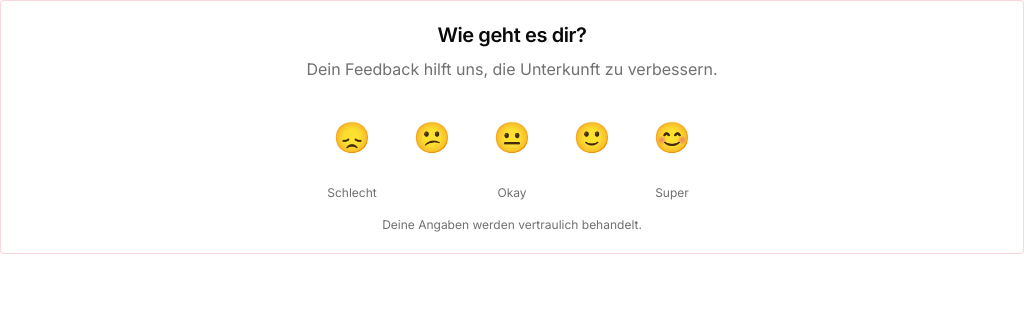
Test: SatisfactionRating › shows single submit button for rating 5
Click the button named "Sehr zufrieden" at (672, 137), box [640,105,704,169]
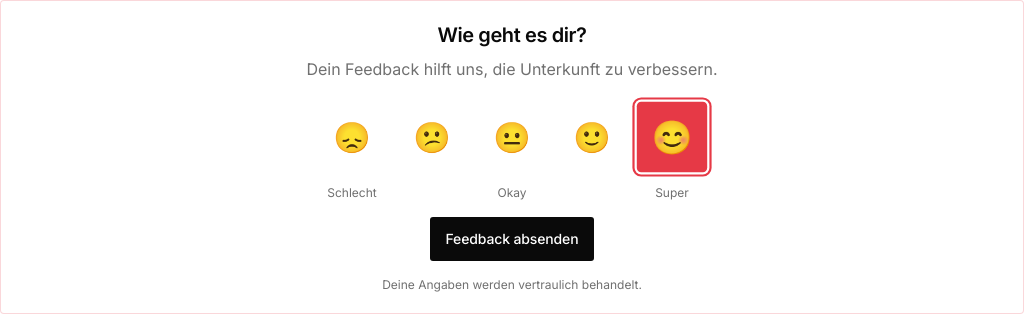
Now the button "Feedback absenden" is shown, box [430,217,594,261]
